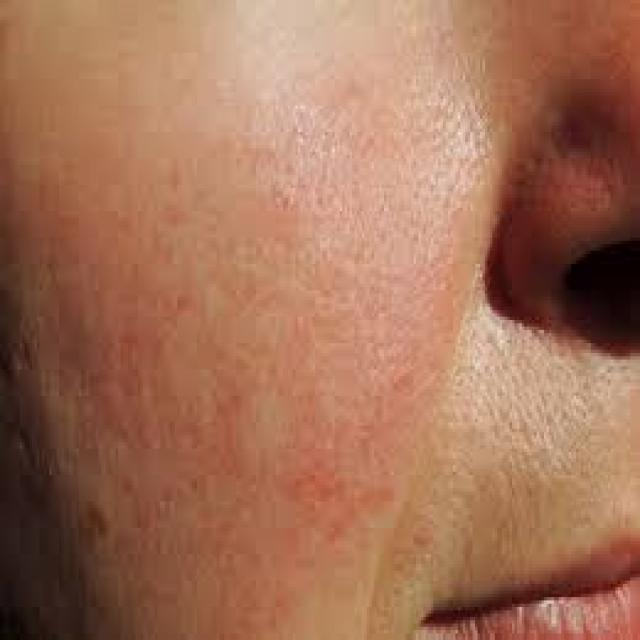Rosacea: (57, 288, 418, 575)
